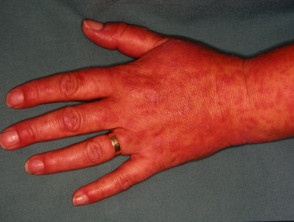SJS-TEN: (105, 15, 294, 177)
